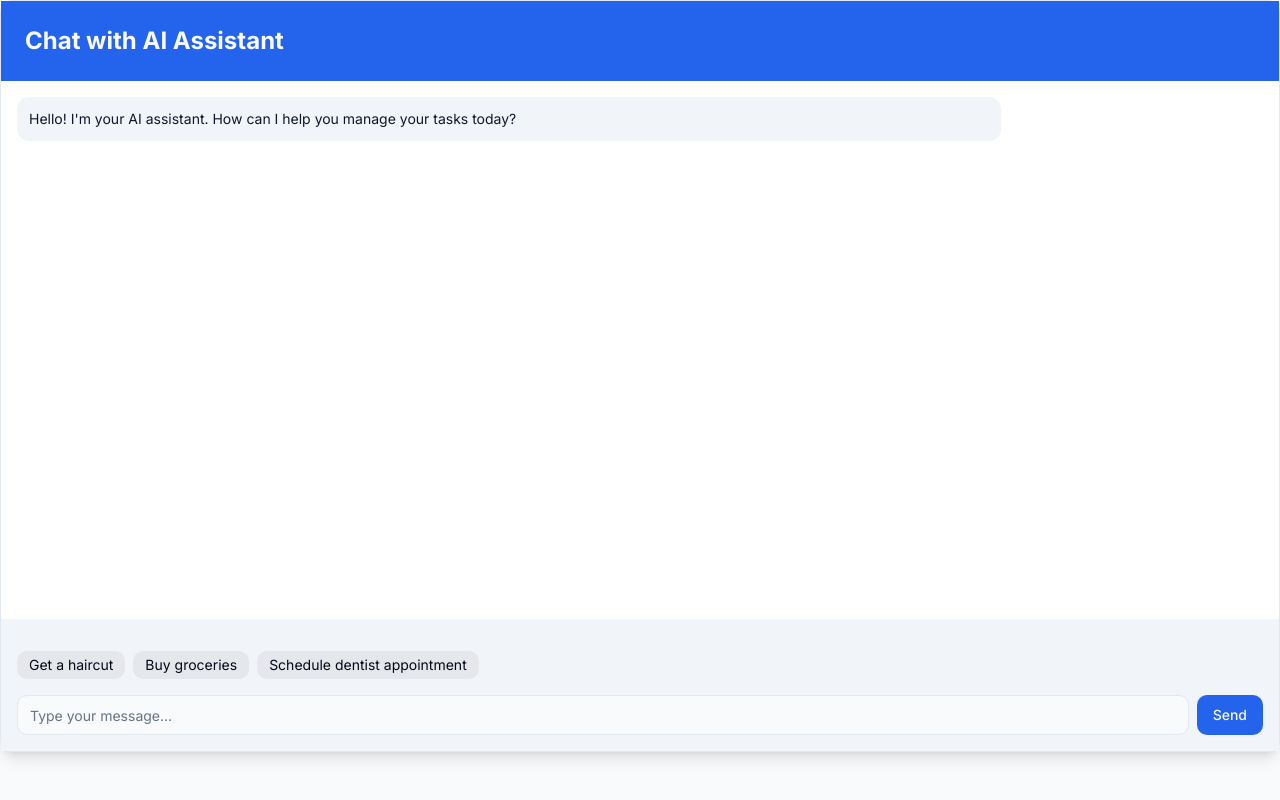
Test: ChatInterface › displays quick options and allows selection
Expected: the text "Get a haircut" is shown, 17,651 -> 125,679
Expected: the text "Schedule dentist appointment" is shown, 257,651 -> 479,679
Click the text "Buy groceries": x=191, y=665 133,651 -> 249,679
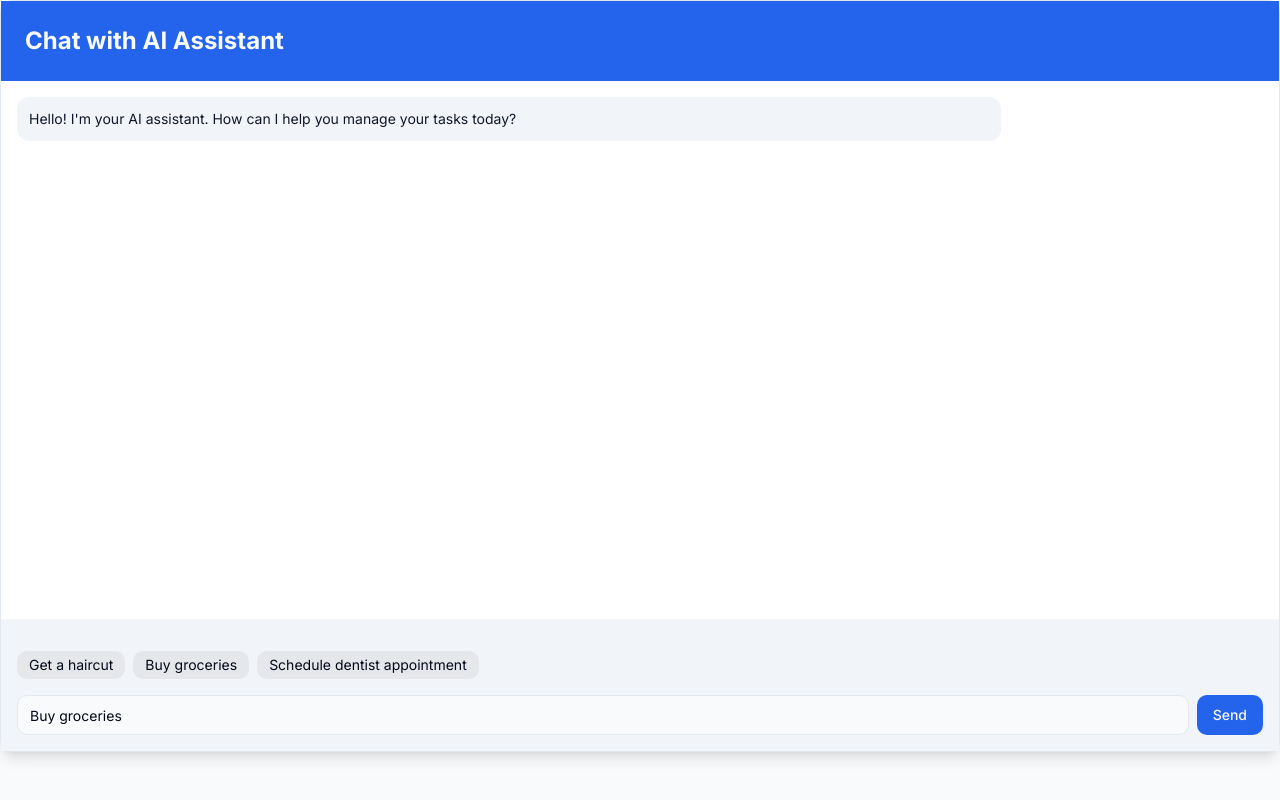
Expected: the field with placeholder "Type your message..." holds "Buy groceries", 17,695 -> 1189,735
